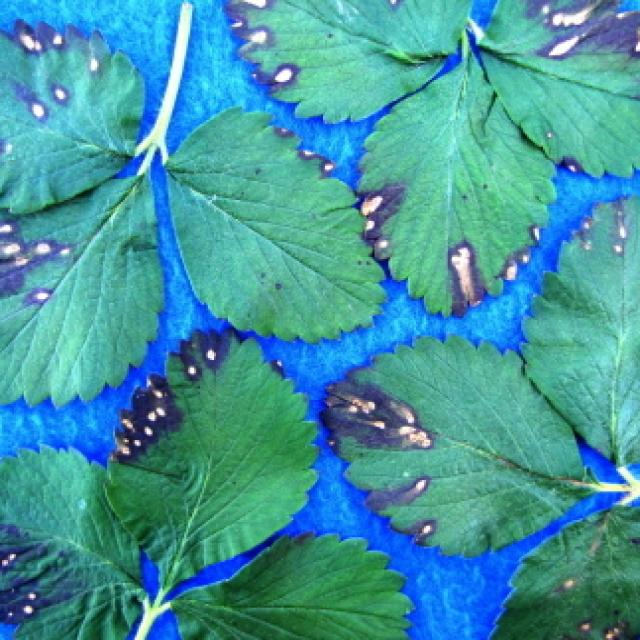Leaf Spot: (314, 330, 601, 558), (102, 318, 323, 592), (355, 41, 562, 317), (165, 103, 391, 345), (0, 164, 167, 412), (517, 193, 640, 467), (222, 0, 476, 126), (474, 0, 640, 183), (0, 441, 147, 640), (0, 17, 146, 212), (170, 530, 421, 640), (486, 504, 640, 640)
